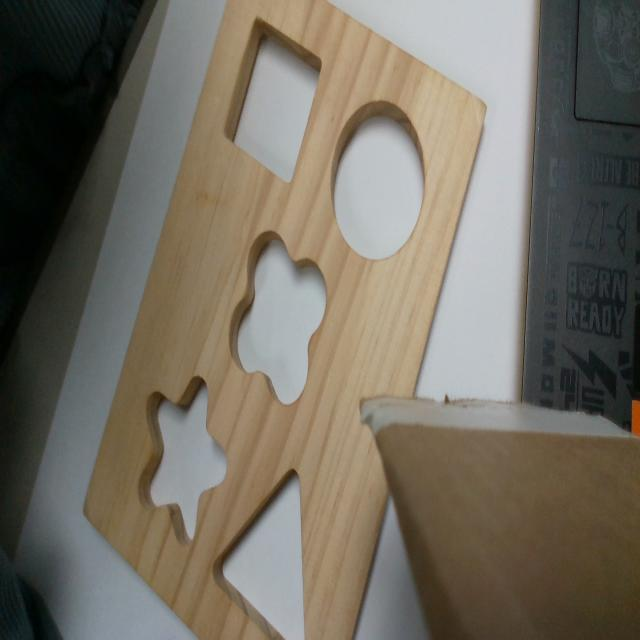circle: (333, 99, 425, 260)
flower: (221, 15, 323, 184), (228, 232, 327, 402)
star: (139, 375, 229, 545)
triangle: (210, 461, 306, 638)
